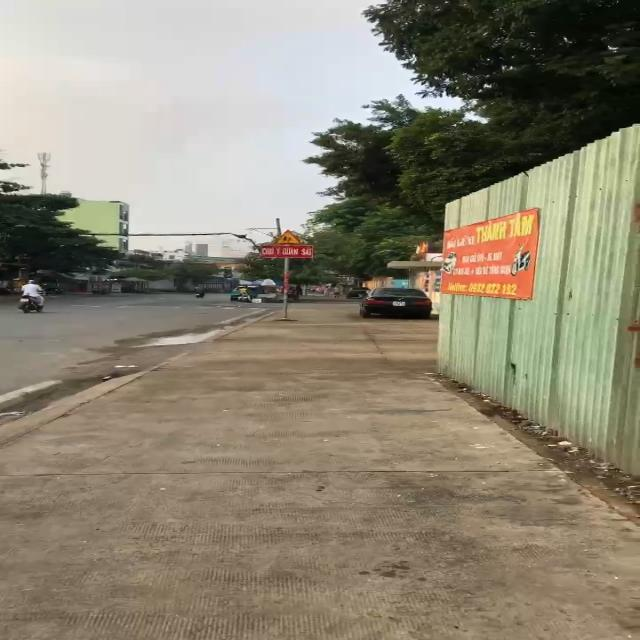Bien bao tre em: (271, 227, 306, 245)
